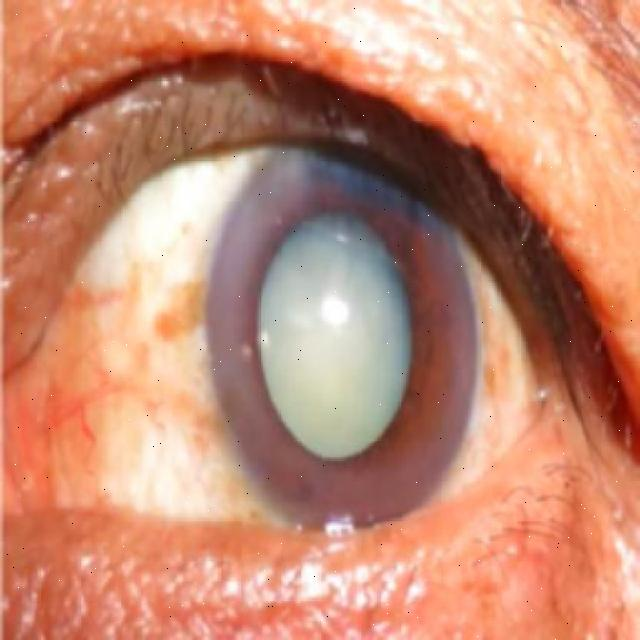Cataract: (202, 127, 482, 549)
